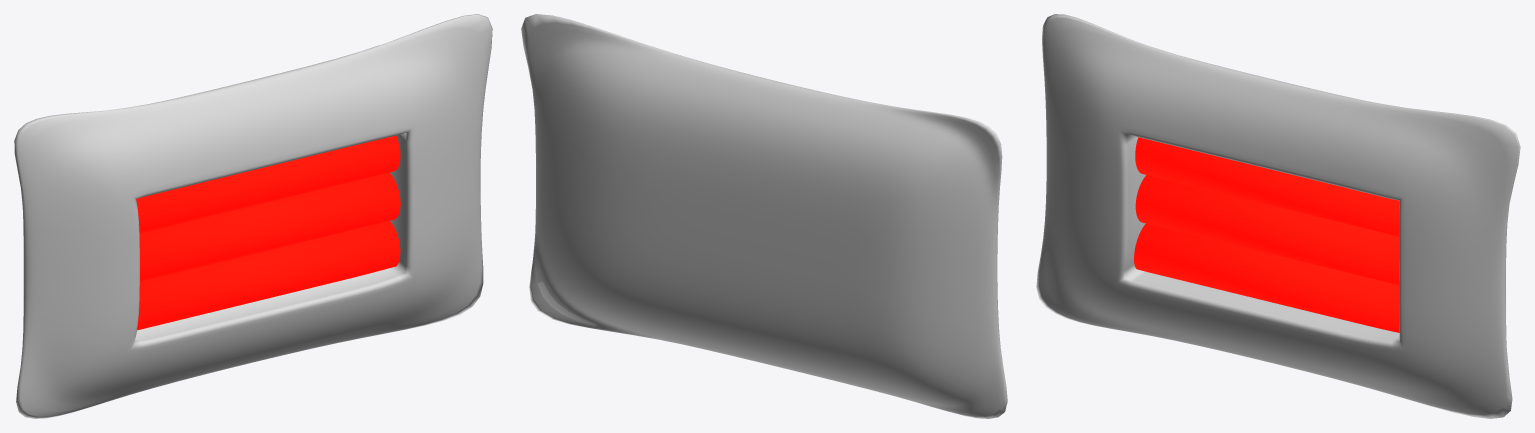
Rendered from Kussen.fbx.
3 views of the same model, side by side, from view 1: azimuth 30°, elevation 25°; view 2: azimuth 150°, elevation 25°; view 3: azimuth 330°, elevation 25° (orthographic).
Visible parts, largest first — view 1: Cube; view 2: Cube; view 3: Cube.
Part boxes in pixels (left/top/right/bottom): Cube: left=14, top=14, right=492, bottom=418; Cube: left=521, top=14, right=1007, bottom=418; Cube: left=1036, top=14, right=1520, bottom=418.
Size of the model in its own units: 1045 by 627 by 153.
